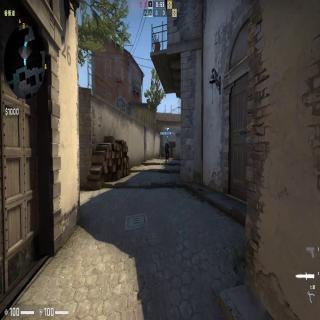CT-Body: (164, 139, 170, 162)
